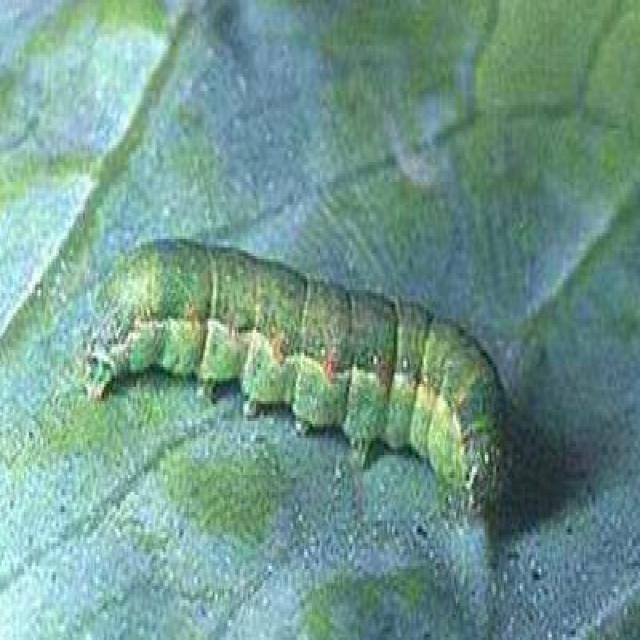BeetArmyWorm-Larva-: (76, 227, 514, 524)
